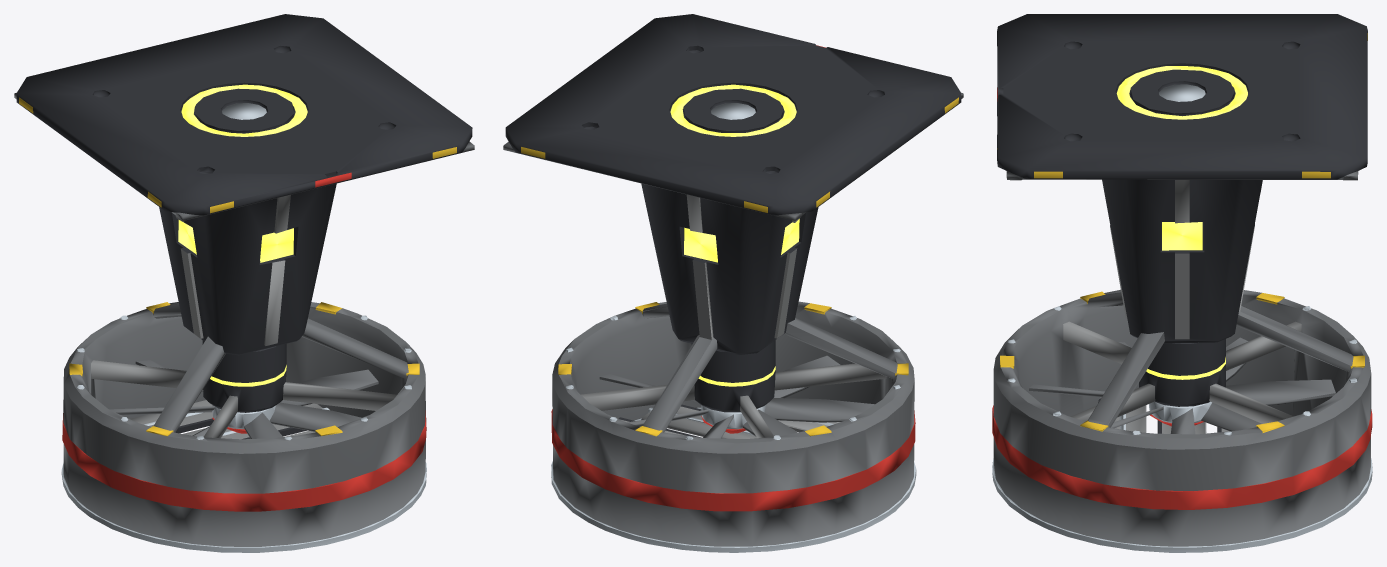
The model's file is R4M_HoverEngine_LOD1.fbx.
The picture shows the model from 3 angles, left to right: view 1: azimuth 30°, elevation 25°; view 2: azimuth 150°, elevation 25°; view 3: azimuth 270°, elevation 25°; orthographic projection. The views are drawn at different scales.
Visible parts, largest first — view 1: R4M_HoverEngine_Housing_LOD1, R4M_HoverEngine_Rotor_LOD1, R4M_HoverEngine_Vane_5_LOD1, R4M_HoverEngine_Vane_4_LOD1; view 2: R4M_HoverEngine_Housing_LOD1, R4M_HoverEngine_Rotor_LOD1, R4M_HoverEngine_Vane_2_LOD1; view 3: R4M_HoverEngine_Housing_LOD1, R4M_HoverEngine_Rotor_LOD1, R4M_HoverEngine_Vane_2_LOD1.
Part boxes in pixels (x1,y1,x2,y2): R4M_HoverEngine_Housing_LOD1: [14, 14, 474, 552]; R4M_HoverEngine_Rotor_LOD1: [109, 360, 378, 438]; R4M_HoverEngine_Vane_5_LOD1: [130, 400, 213, 433]; R4M_HoverEngine_Vane_4_LOD1: [183, 403, 329, 439]; R4M_HoverEngine_Housing_LOD1: [503, 14, 963, 552]; R4M_HoverEngine_Rotor_LOD1: [599, 355, 874, 438]; R4M_HoverEngine_Vane_2_LOD1: [641, 404, 756, 438]; R4M_HoverEngine_Housing_LOD1: [992, 14, 1372, 552]; R4M_HoverEngine_Rotor_LOD1: [1029, 337, 1335, 434]; R4M_HoverEngine_Vane_2_LOD1: [1098, 397, 1146, 432].
Size of the model in its own units: 0.5239 by 0.579 by 0.5239.
